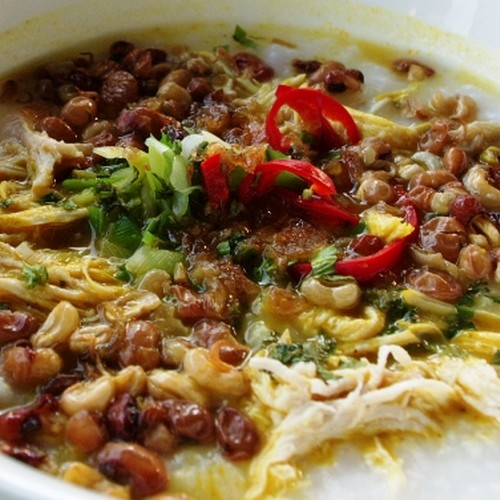bubur mengguh: (7, 31, 500, 491)
